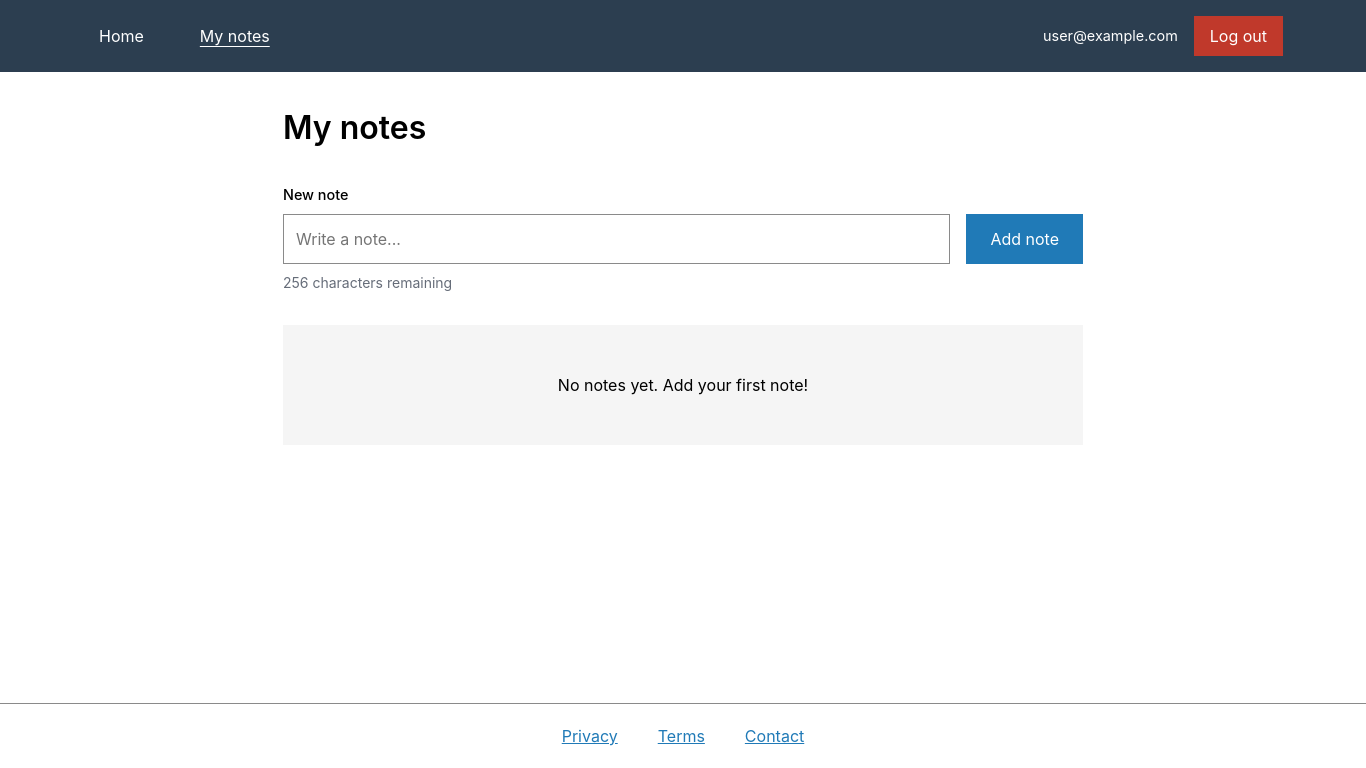
Scenario: Notes, through the whole app › creates a note and shows it
Expected: the text "No notes yet. Add your first note!" is shown, x1=283 y1=325 x2=1083 y2=445
Type "My new test note" into the field labelled "New note".
click(617, 239); type("My new test note")  # box x1=283 y1=214 x2=950 y2=264
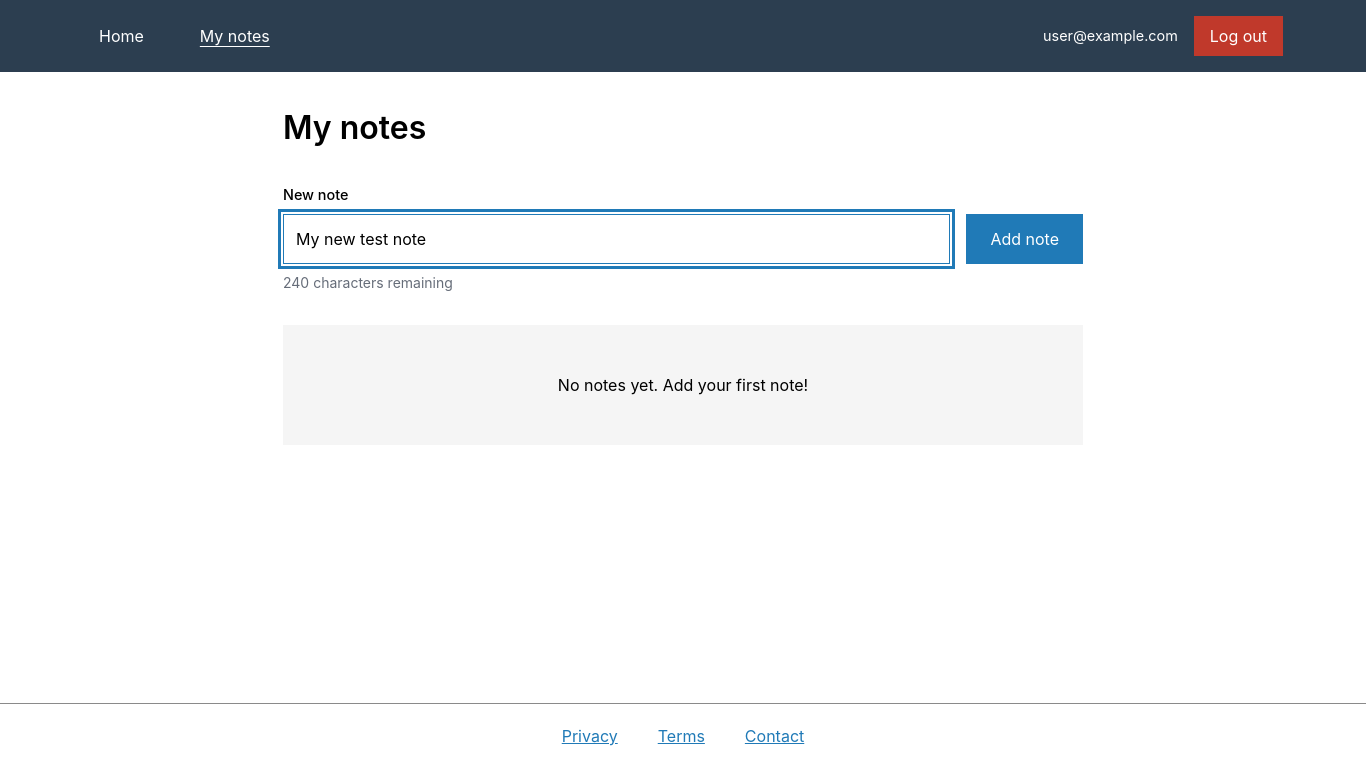
Click the button "Add note".
click(1025, 239)  # box x1=966 y1=214 x2=1083 y2=264
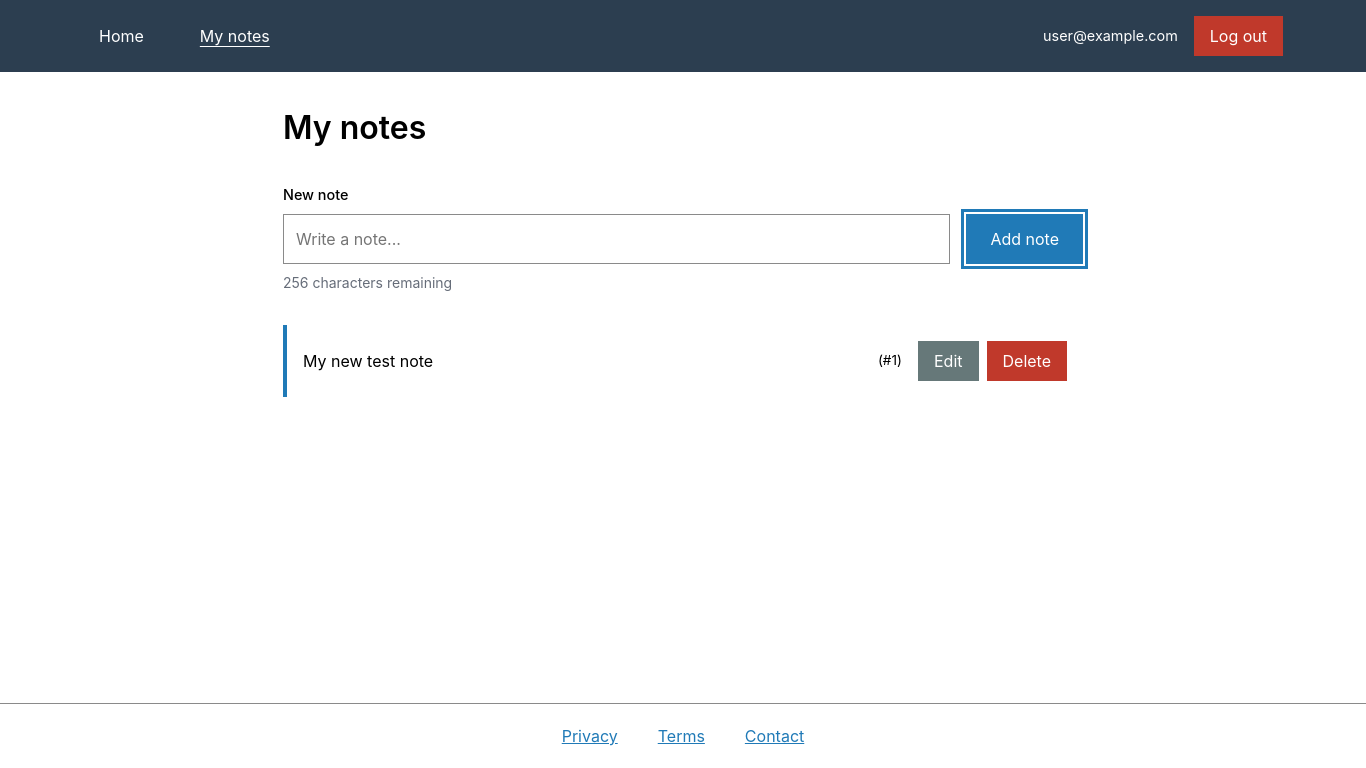
Now the text "My new test note" is shown, box x1=303 y1=351 x2=433 y2=371
